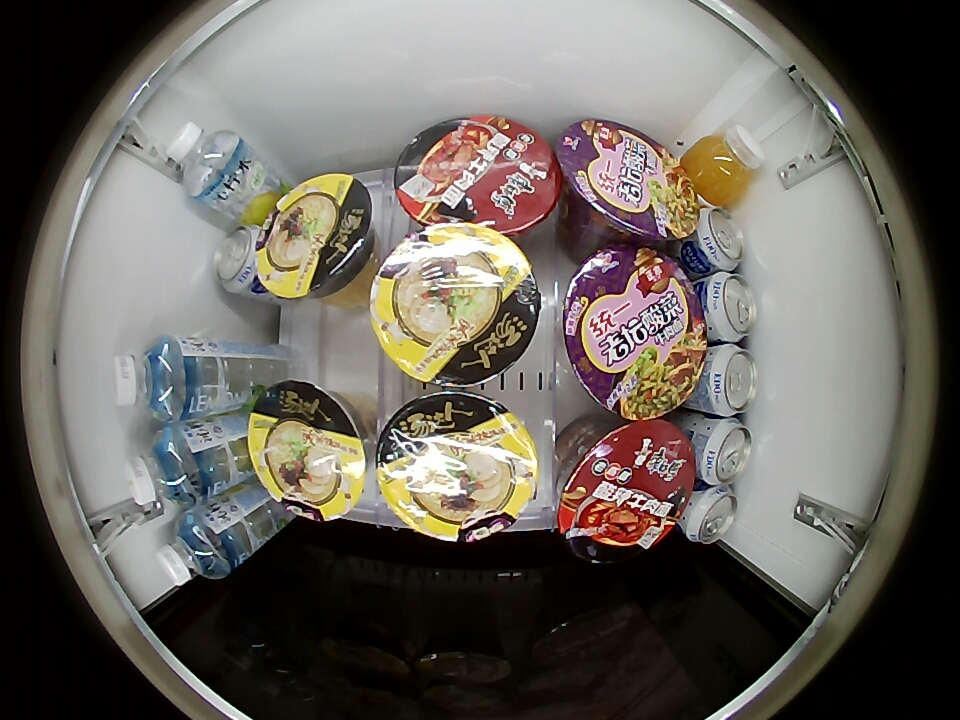laotansuancai: (561, 245, 707, 420), (557, 119, 699, 244)
qinningshui: (112, 337, 192, 423), (126, 428, 204, 510), (164, 122, 245, 199), (156, 512, 235, 587)
rusuanjunqishui: (699, 344, 758, 416), (693, 417, 754, 485), (701, 273, 757, 343), (213, 224, 265, 296), (692, 208, 746, 273), (681, 484, 738, 545)
suanlaniurou: (557, 421, 694, 564), (394, 116, 561, 233)
tangdaren2: (369, 224, 542, 388), (375, 390, 540, 544), (247, 380, 370, 522), (256, 172, 376, 302)
weic: (682, 125, 765, 206)
